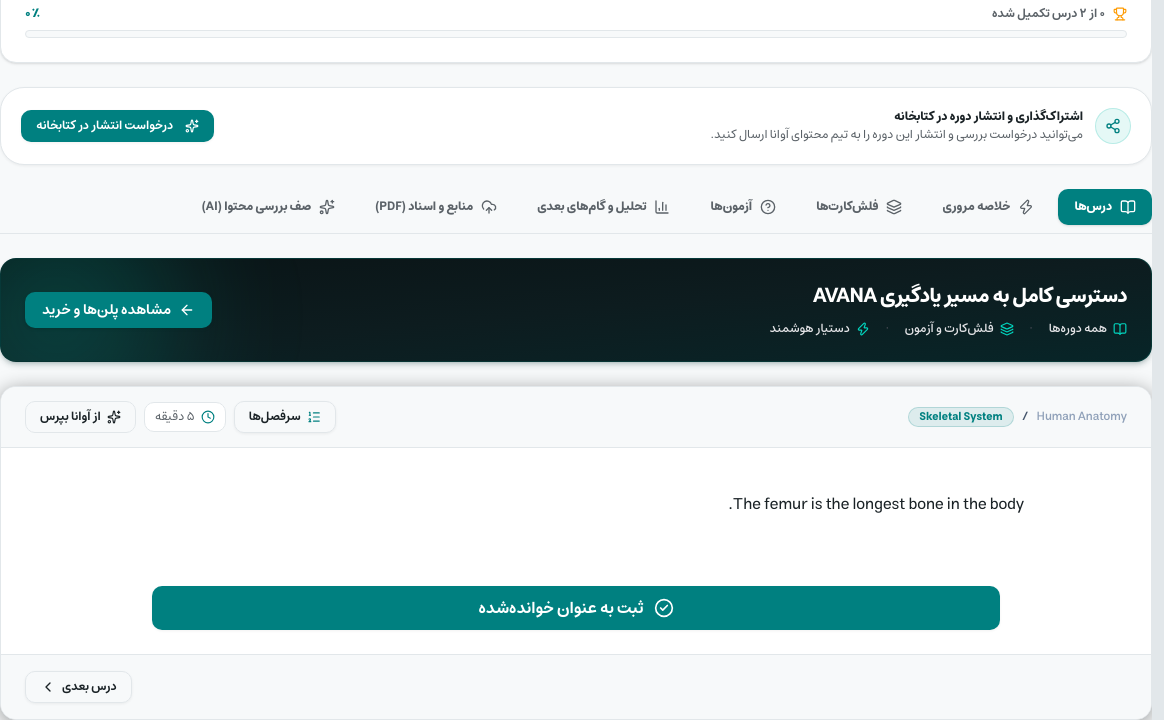
Scenario: PR6-9C UX Hardening: Lessons › supports previous/next lesson buttons to navigate between lessons
(page scrolled)
Expected: the text "The femur is the longest bone in the body." is shown, [728,490,1024,518]
# Next button should be present
Click the button "درس بعدی" at (78, 687), box [25,671,132,703]
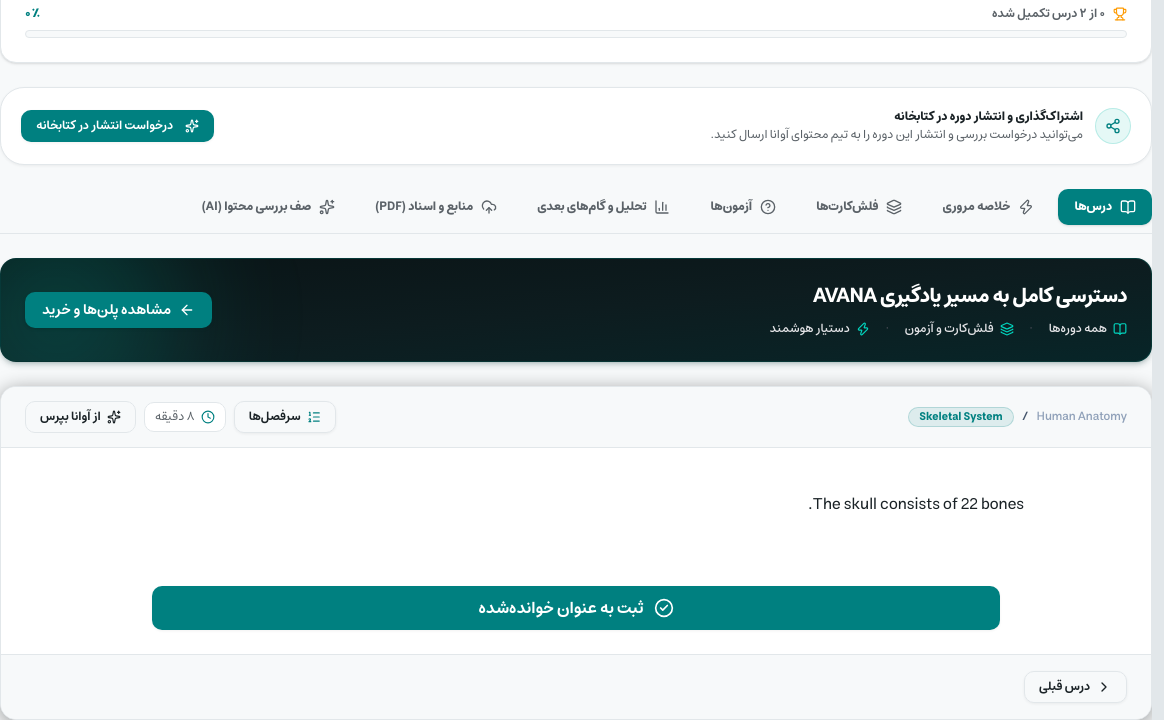
Expected: the text "The skull consists of 22 bones." is shown, [808,490,1024,518]
# Previous button should be present
Click the button "درس قبلی" at (1076, 687), box [1024,671,1127,703]
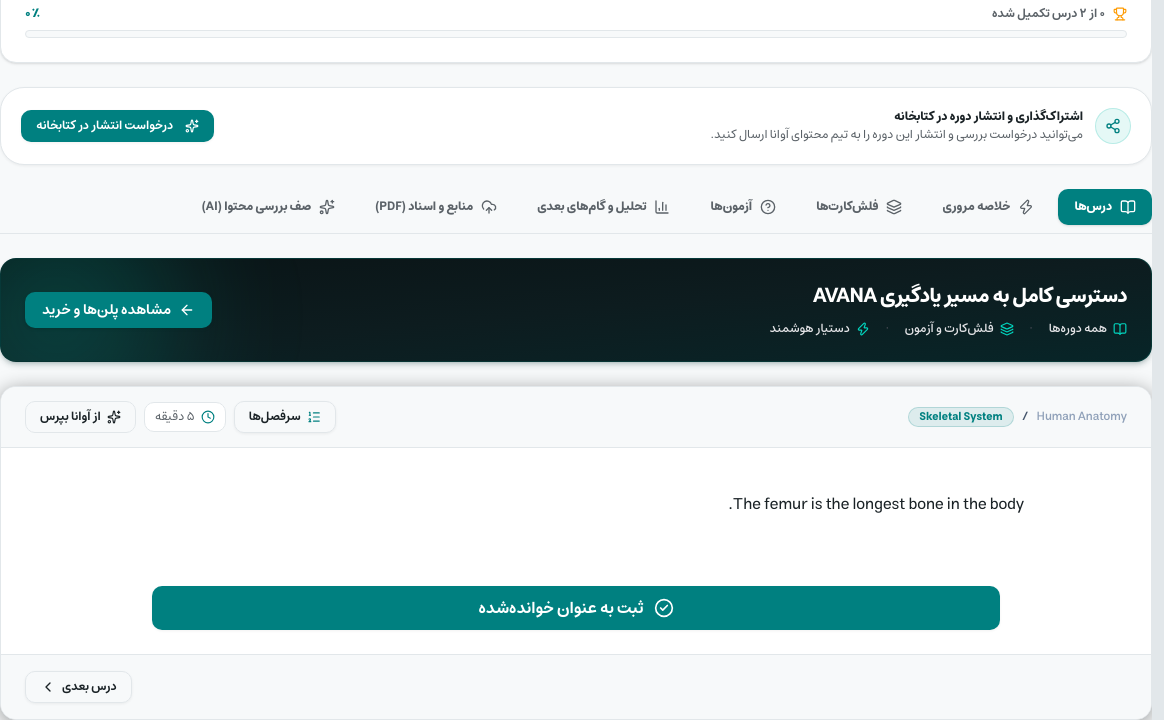
Expected: the text "The femur is the longest bone in the body." is shown, [728,490,1024,518]
